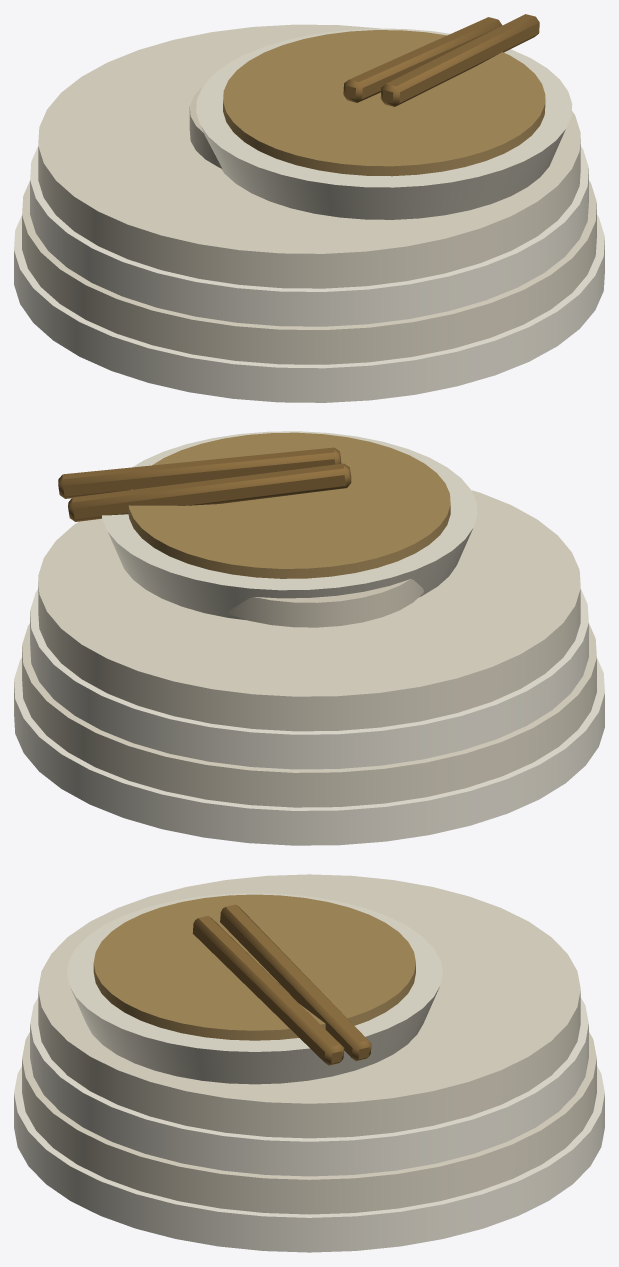
The model's file is BatDia_TrongChau.glb.
3 renders of one model, top to bottom at view 1: azimuth 30°, elevation 25°; view 2: azimuth 150°, elevation 25°; view 3: azimuth 270°, elevation 25°, orthographic.
Parts seen in each view (by area): view 1: BatDia_TrongChau; view 2: BatDia_TrongChau; view 3: BatDia_TrongChau.
Part boxes in pixels (x1=…): BatDia_TrongChau: x1=14, y1=14, x2=604, y2=402; BatDia_TrongChau: x1=14, y1=431, x2=604, y2=845; BatDia_TrongChau: x1=14, y1=874, x2=604, y2=1252.
Bounding box in the file's own units: 0.2164 × 0.0908 × 0.2164.
